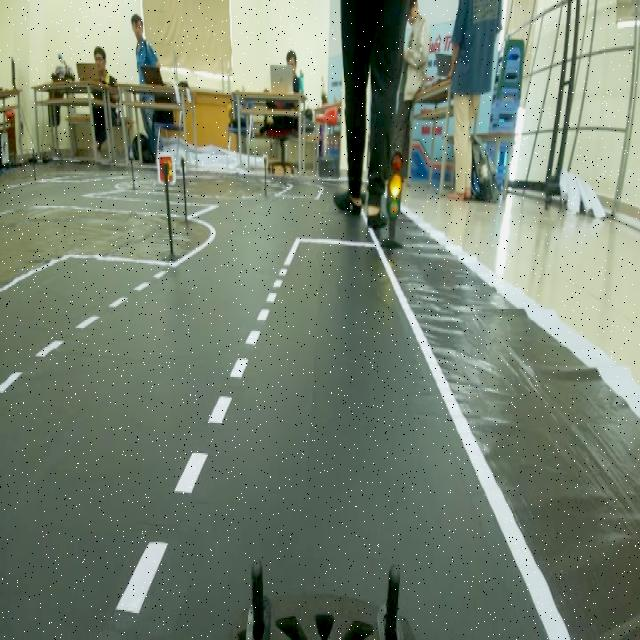trafficlight: (379, 146, 407, 258)
